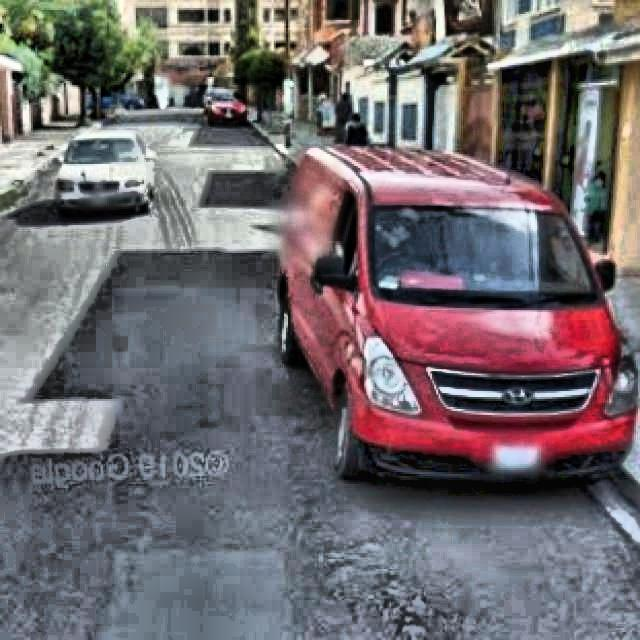carro: (290, 152, 640, 480), (52, 128, 154, 216), (205, 84, 249, 129)
